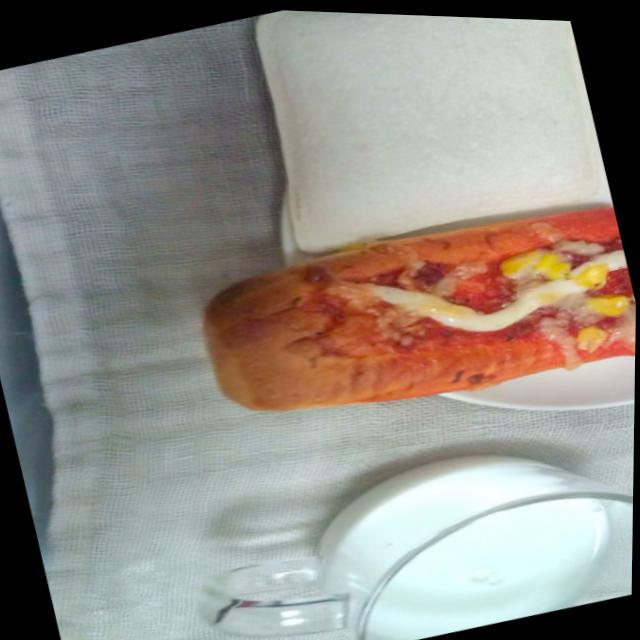三明治: (197, 179, 638, 452), (225, 7, 615, 278)
